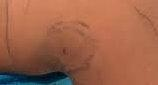Spider: (47, 22, 94, 69)
